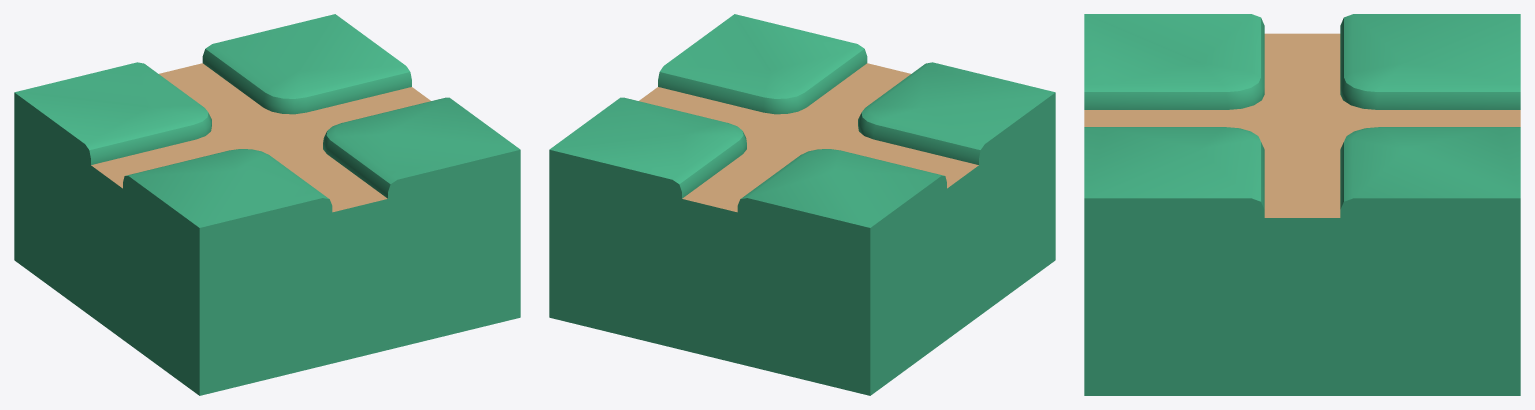
Rendered from kaykit-square-forest-roade.glb.
3 views of the same model, side by side, from view 1: azimuth 30°, elevation 25°; view 2: azimuth 150°, elevation 25°; view 3: azimuth 270°, elevation 25° (orthographic). The views are drawn at different scales.
Visible parts, largest first — view 1: square_forest_roadE; view 2: square_forest_roadE; view 3: square_forest_roadE.
Part boxes in pixels (x1,y1,x2,y2): square_forest_roadE: (14, 14, 520, 395); square_forest_roadE: (549, 14, 1055, 395); square_forest_roadE: (1084, 14, 1520, 395).
Size of the model in its own units: 2 by 0.9998 by 2.
